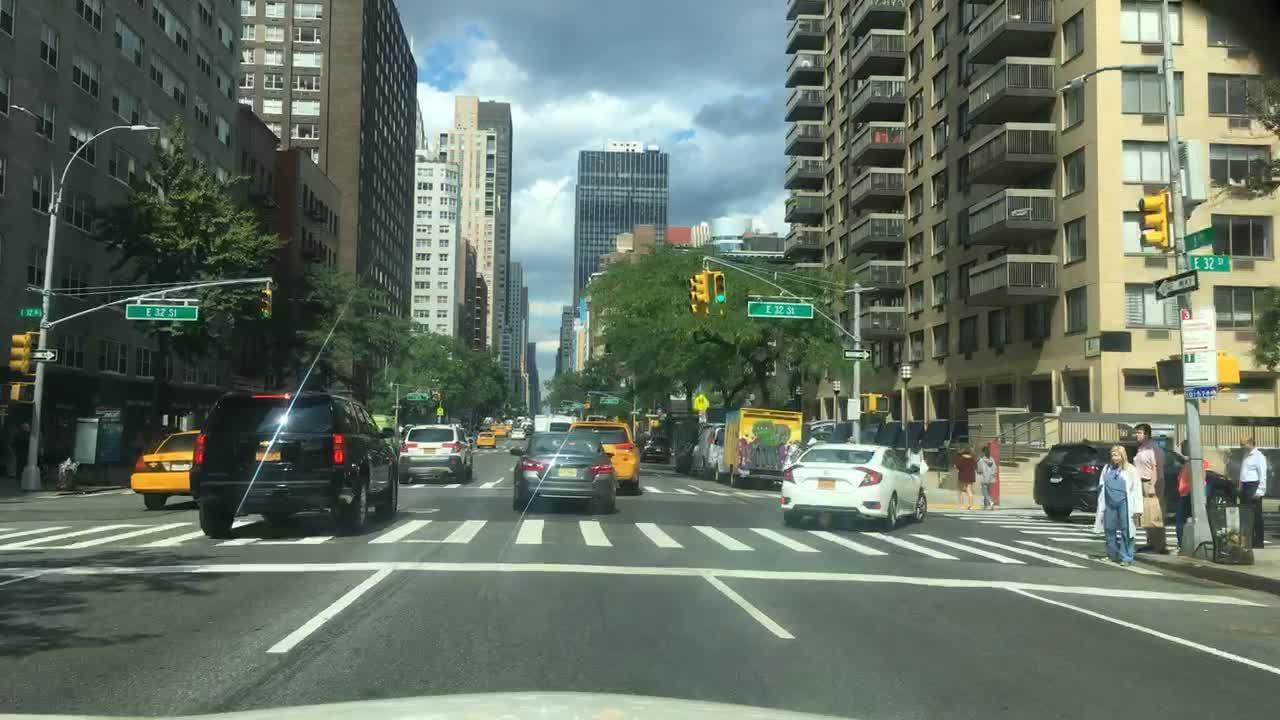chevrolet: (255, 435, 281, 449)
